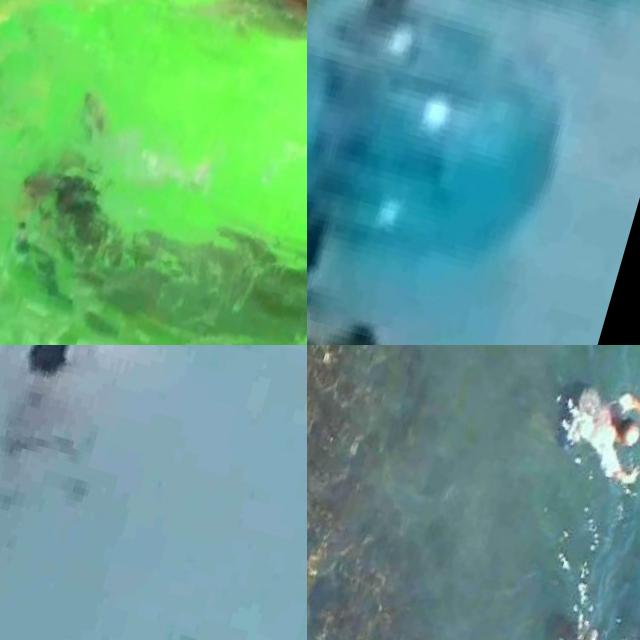drowning: (0, 89, 307, 345), (0, 345, 160, 544), (307, 166, 353, 298)
swimming: (533, 362, 640, 495), (330, 0, 458, 94), (529, 590, 617, 640), (307, 304, 397, 345)
